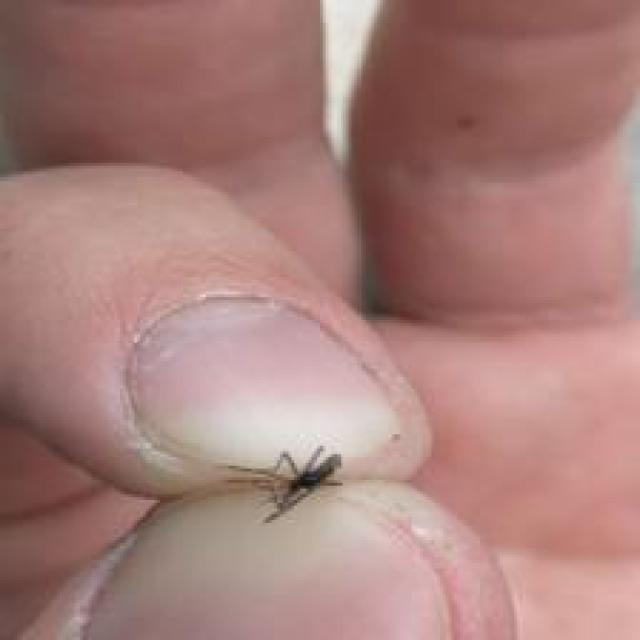Aedes albopictus: (224, 444, 344, 524)
